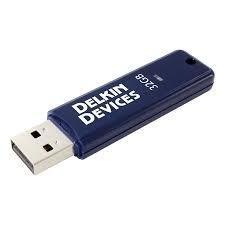USB Flash Drive: (9, 50, 215, 176)
